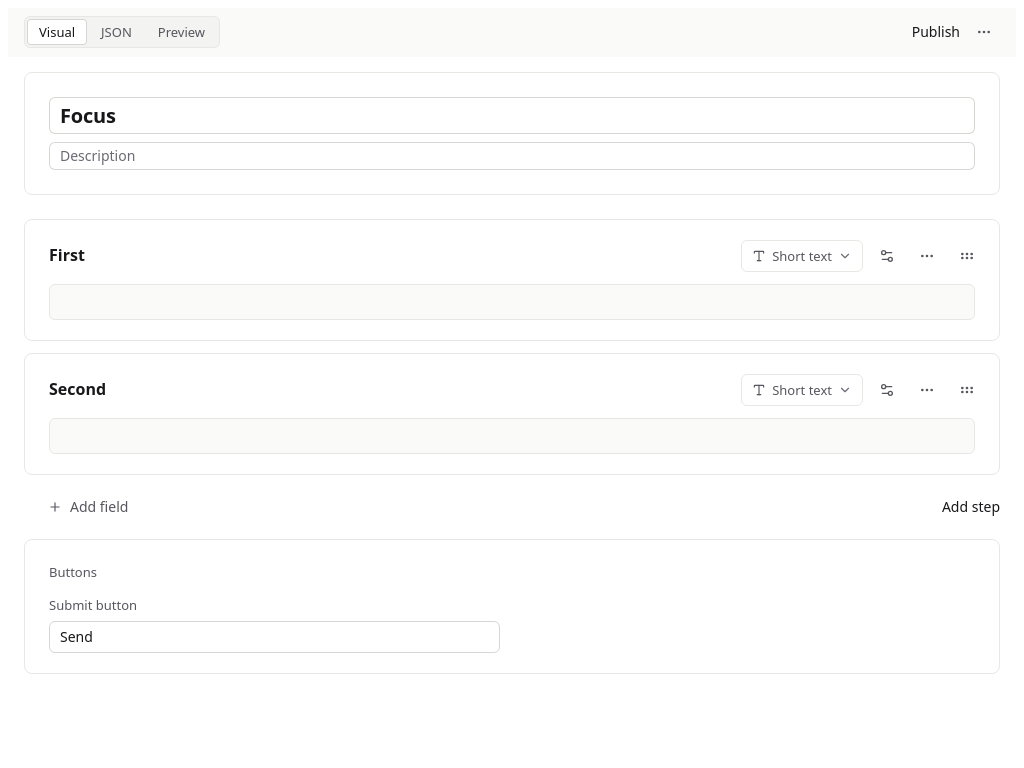
Scenario: editor focus and announcements › announces a deleted field once, through the toast
Click the 2nd text box named "Field label" at (78, 390), box [49, 378, 106, 401]
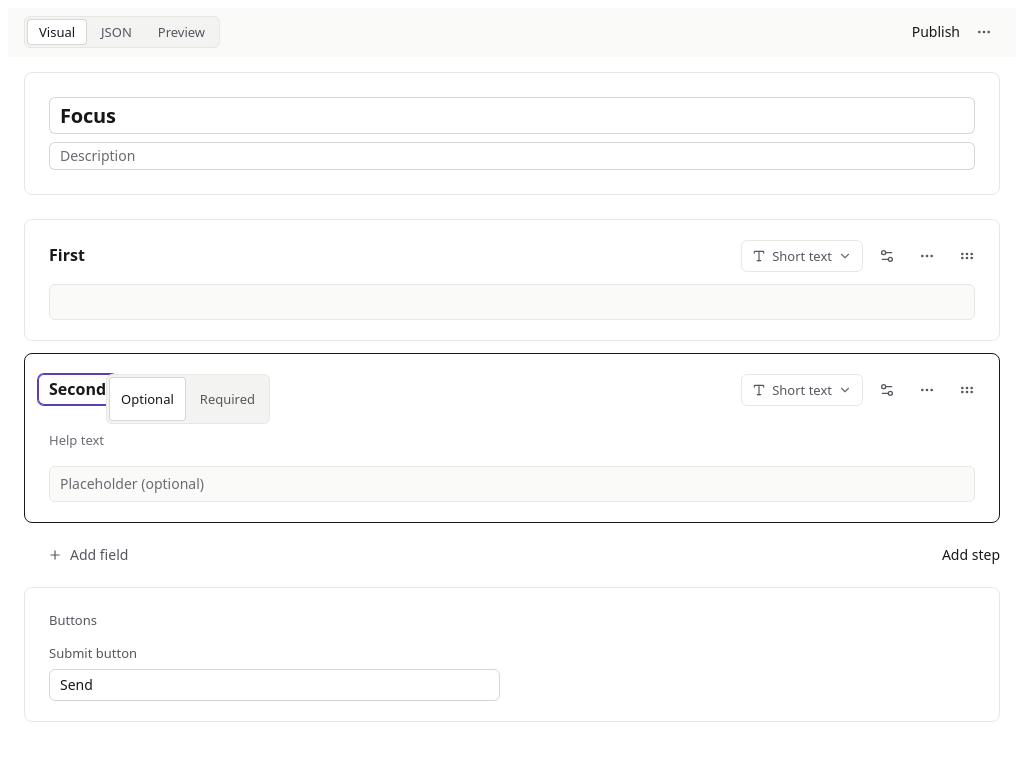
Click the button named "Field actions" in the row of "Required" at (927, 390), box [911, 374, 943, 406]
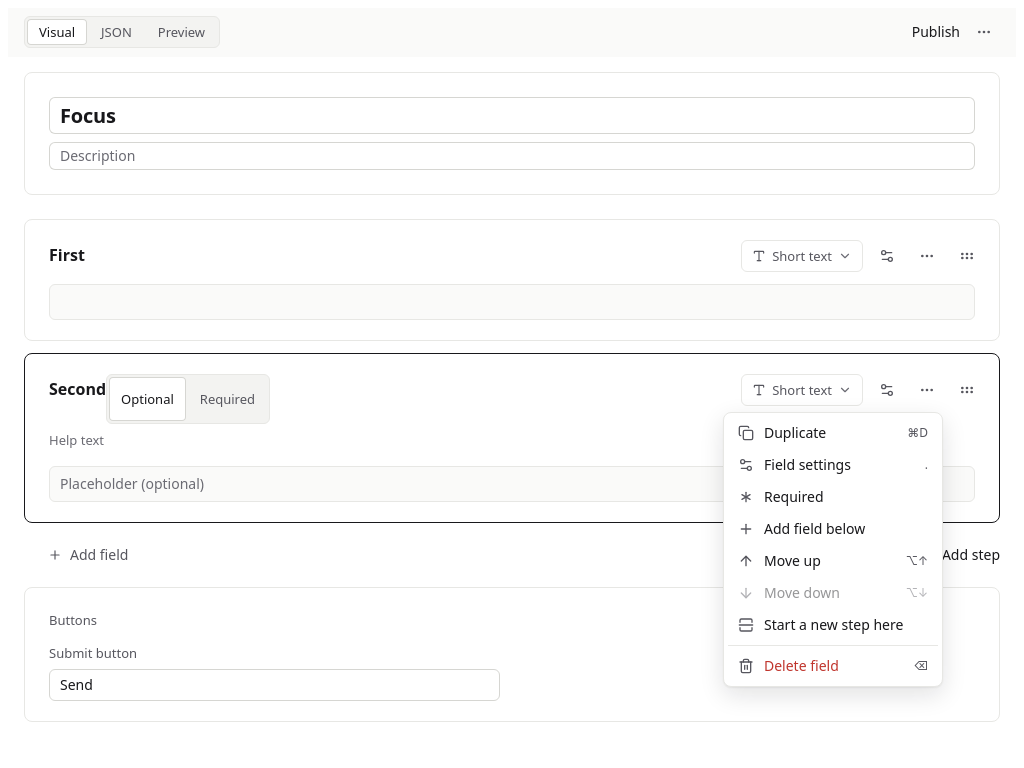
Click the menu item "Delete field ⌫" at (833, 665), box [738, 656, 928, 675]
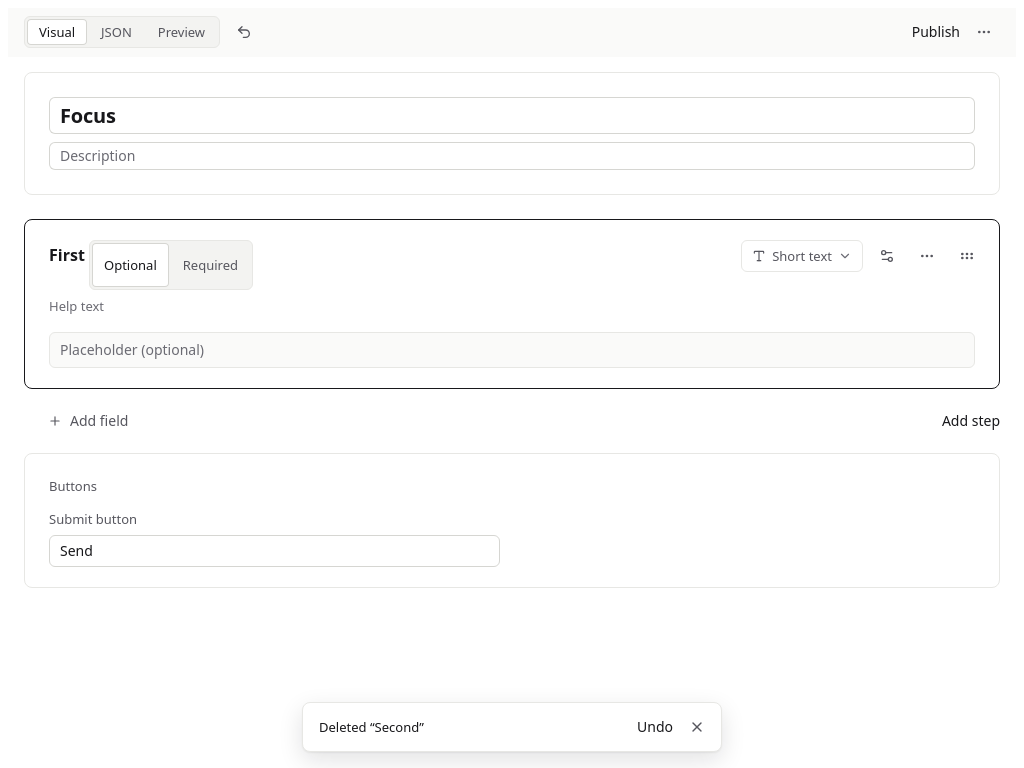
Expected: the text "deleted" is not shown
Now the text "Deleted “Second”" is shown, box [319, 718, 424, 736]
